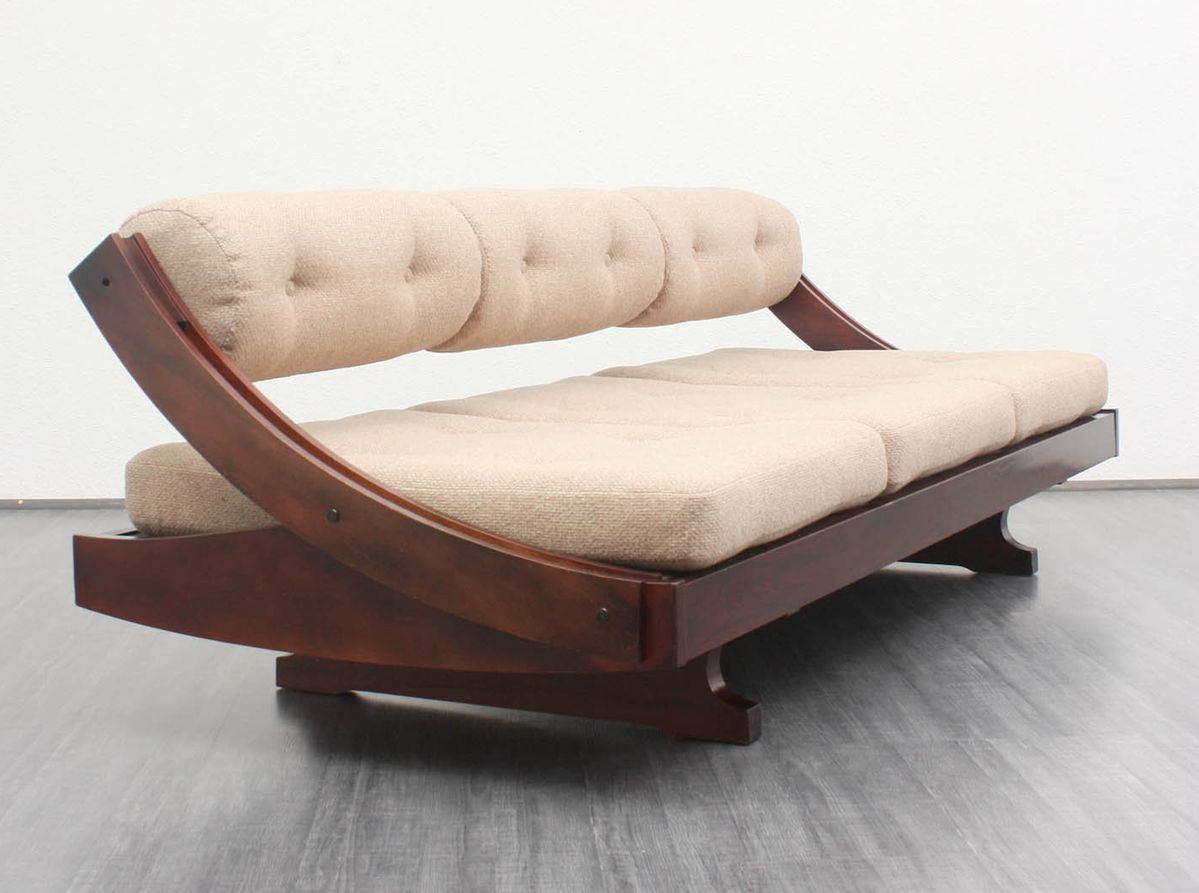3seatersofa: (70, 188, 1117, 742)
backrest: (122, 189, 801, 379)
base: (646, 410, 1117, 659), (74, 527, 599, 674)
leftarmrest: (770, 276, 895, 349)
leg: (276, 647, 760, 744), (911, 511, 1037, 575)
rightarmrest: (70, 235, 680, 672)
seat: (306, 349, 1106, 570), (126, 443, 271, 532)
